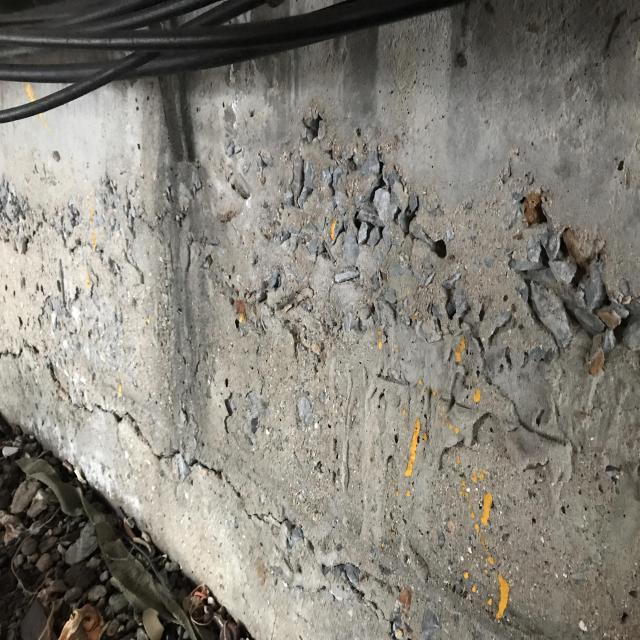horizontal crack: (0, 344, 409, 640)
